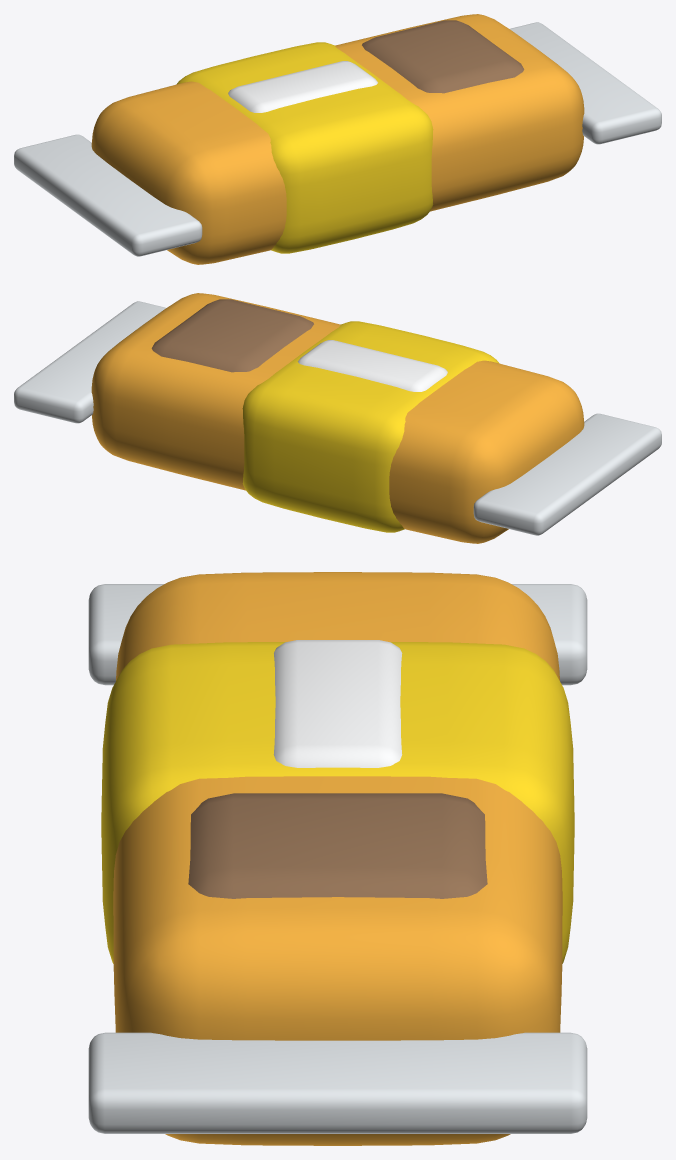
The model's file is SM_SnackBar.fbx.
3 renders of one model, top to bottom at view 1: azimuth 30°, elevation 25°; view 2: azimuth 150°, elevation 25°; view 3: azimuth 270°, elevation 25°, orthographic. The views are drawn at different scales.
Parts seen in each view (by area): view 1: SM_SnackBar; view 2: SM_SnackBar; view 3: SM_SnackBar.
Part boxes in pixels (left/top/right/bottom): SM_SnackBar: left=14, top=14, right=661, bottom=264; SM_SnackBar: left=14, top=293, right=661, bottom=543; SM_SnackBar: left=88, top=572, right=587, bottom=1145.
Size of the model in its own units: 26.6 by 6.3 by 10.85.
